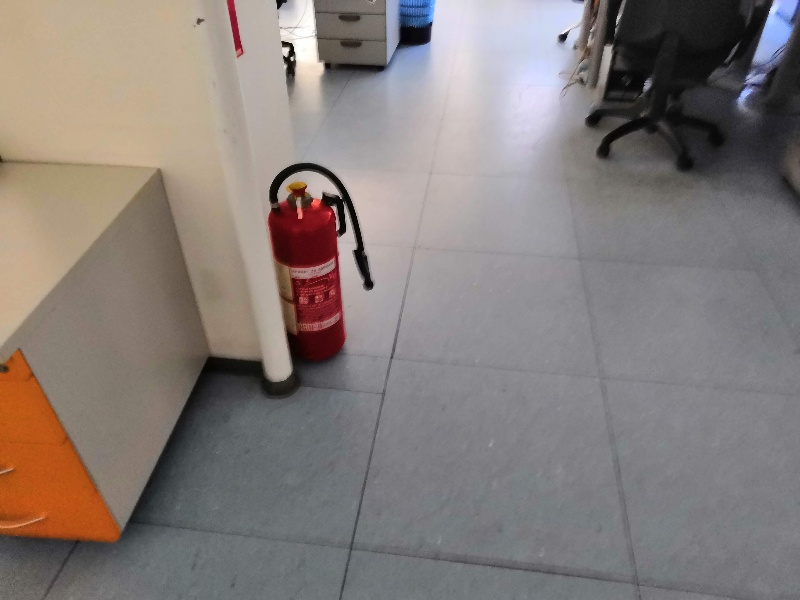vataparat: (267, 162, 375, 357)
